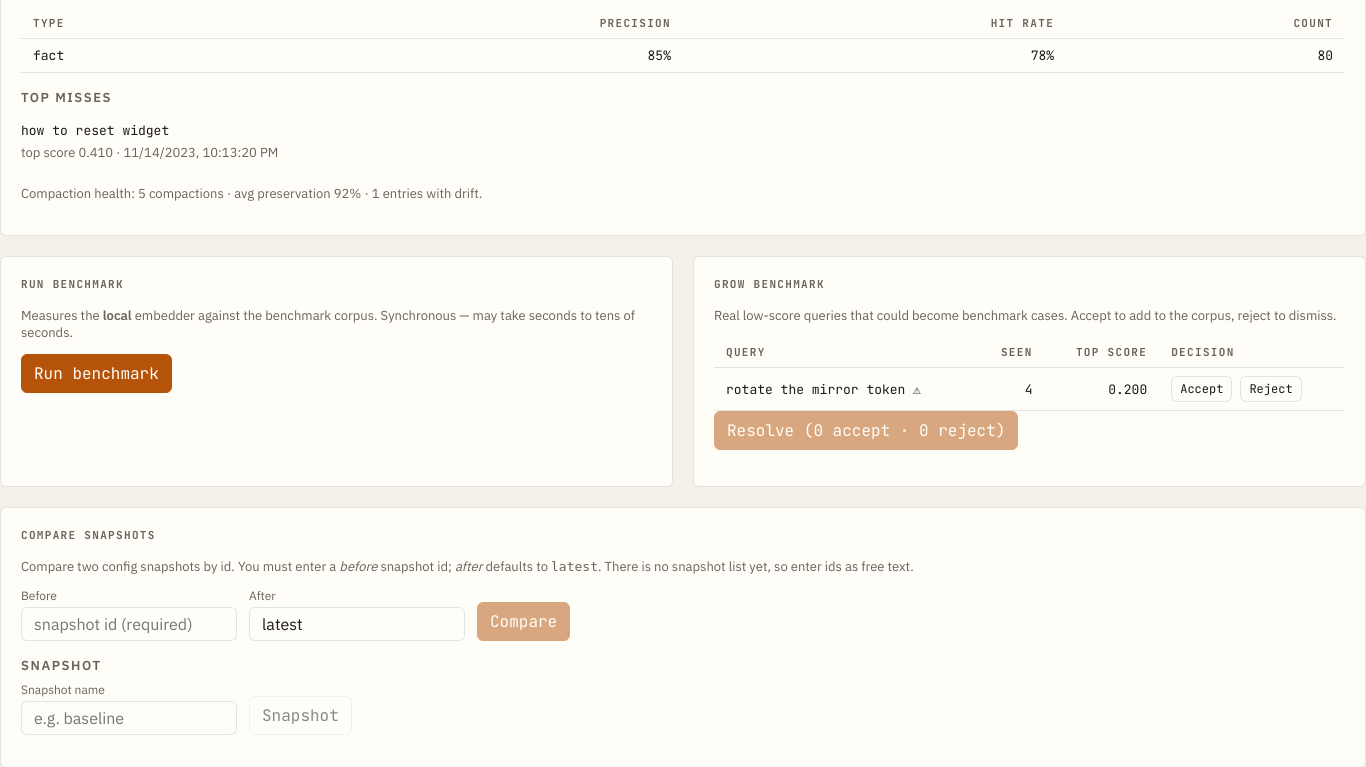
Eval page › grow: flags sensitive candidates and surfaces a blocked notice on resolve
(page scrolled)
Expected: the text "⚠" is shown, 905,380 -> 921,398
Click the button "Accept": (1202, 389) 1171,376 -> 1232,402
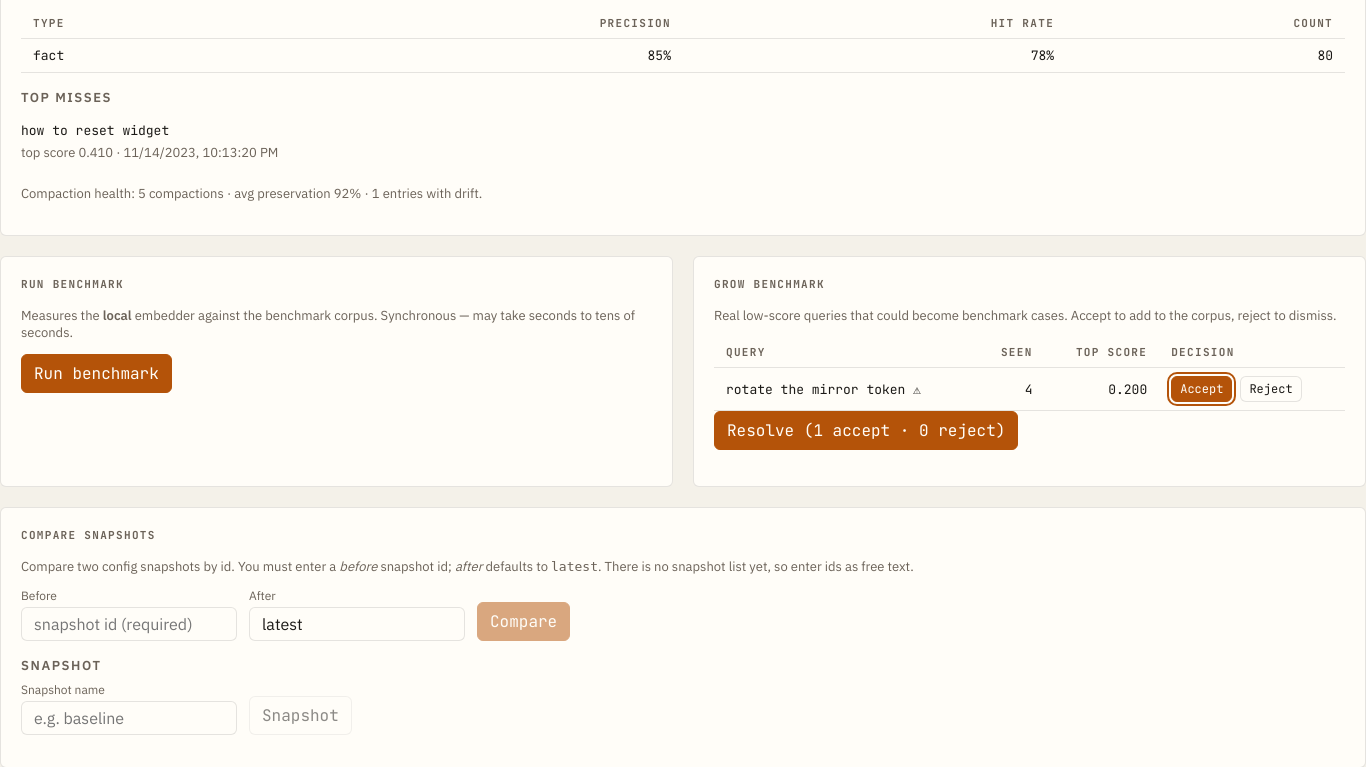
Click the button "Resolve (1 accept · 0 reject)": (866, 430) 714,411 -> 1018,450
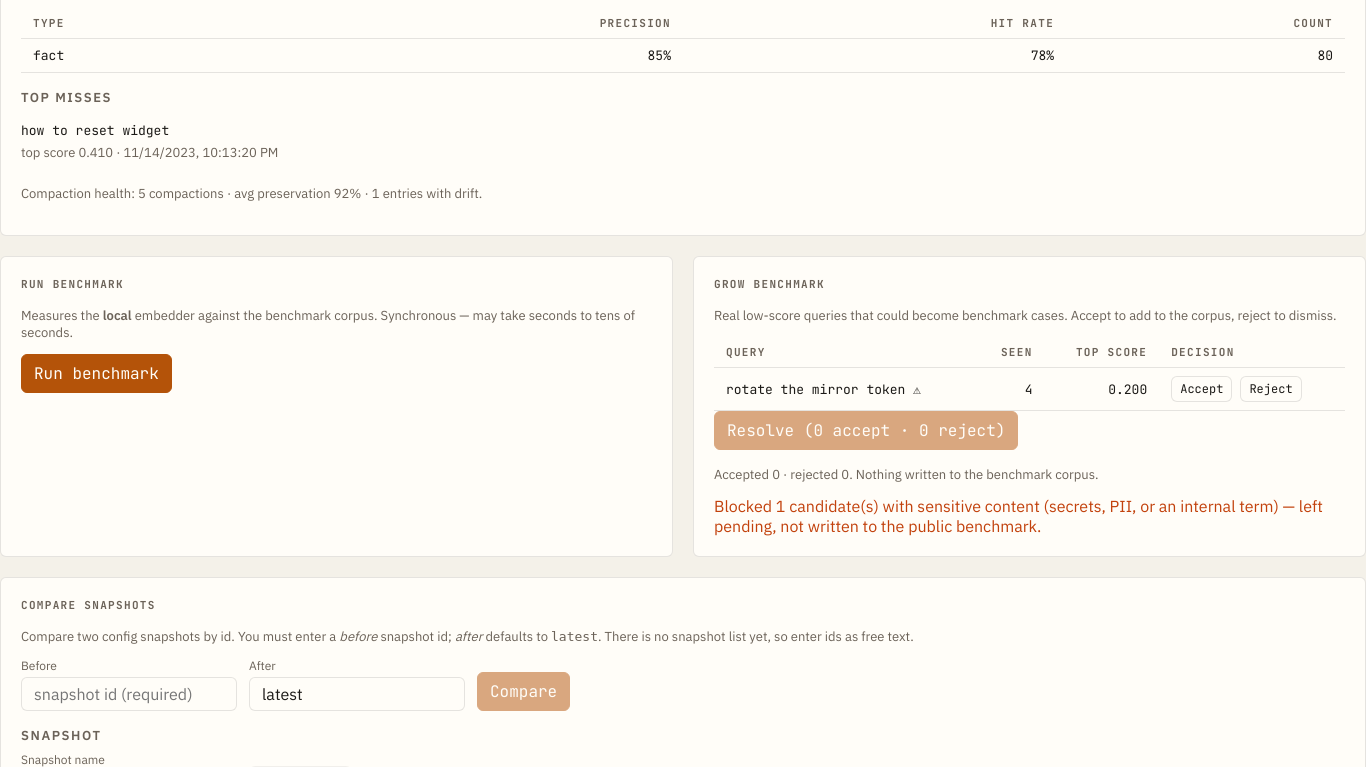
Expected: the text "Blocked 1 candidate" is shown, 714,496 -> 1345,536
Expected: the text "Accepted 0 · rejected 0. Nothing written to the benchmark corpus." is shown, 714,466 -> 1098,483
